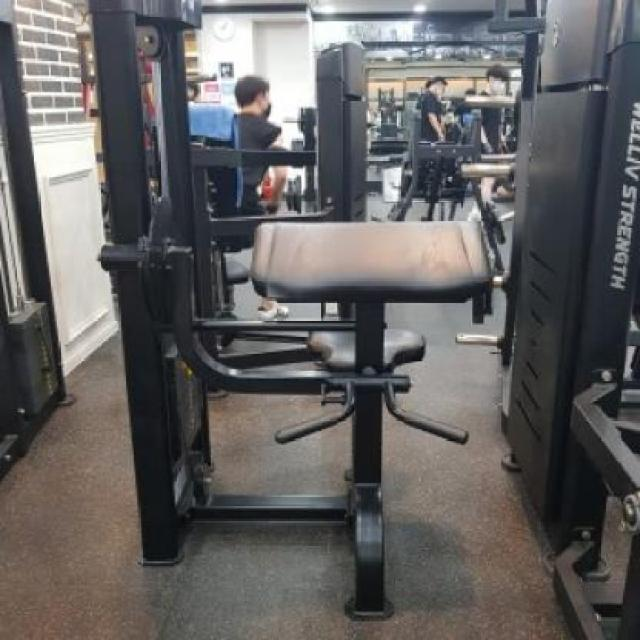arm curl machine: (105, 217, 492, 615)
